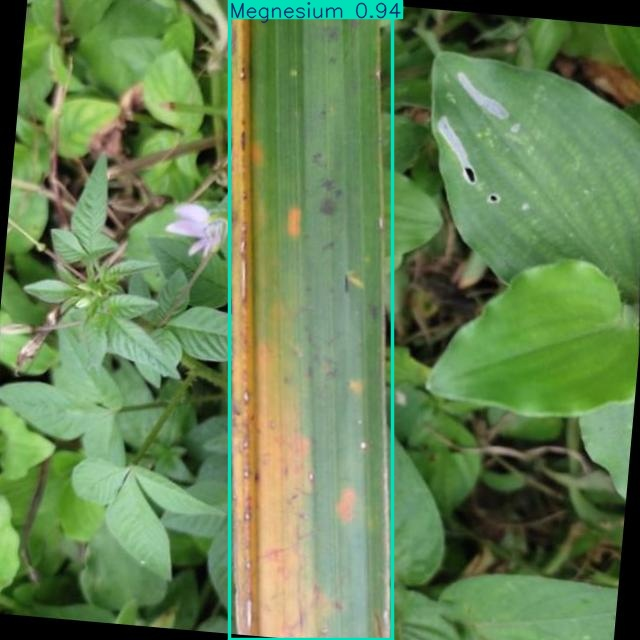Megnesium: (229, 0, 393, 640)
